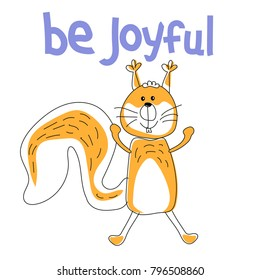animal: (15, 64, 214, 237)
